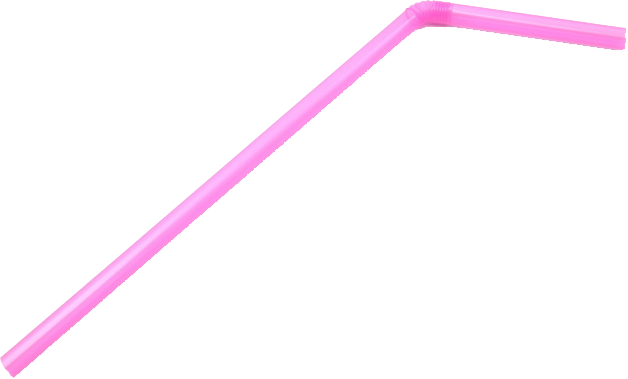Drinking Straw: (1, 1, 628, 379)
